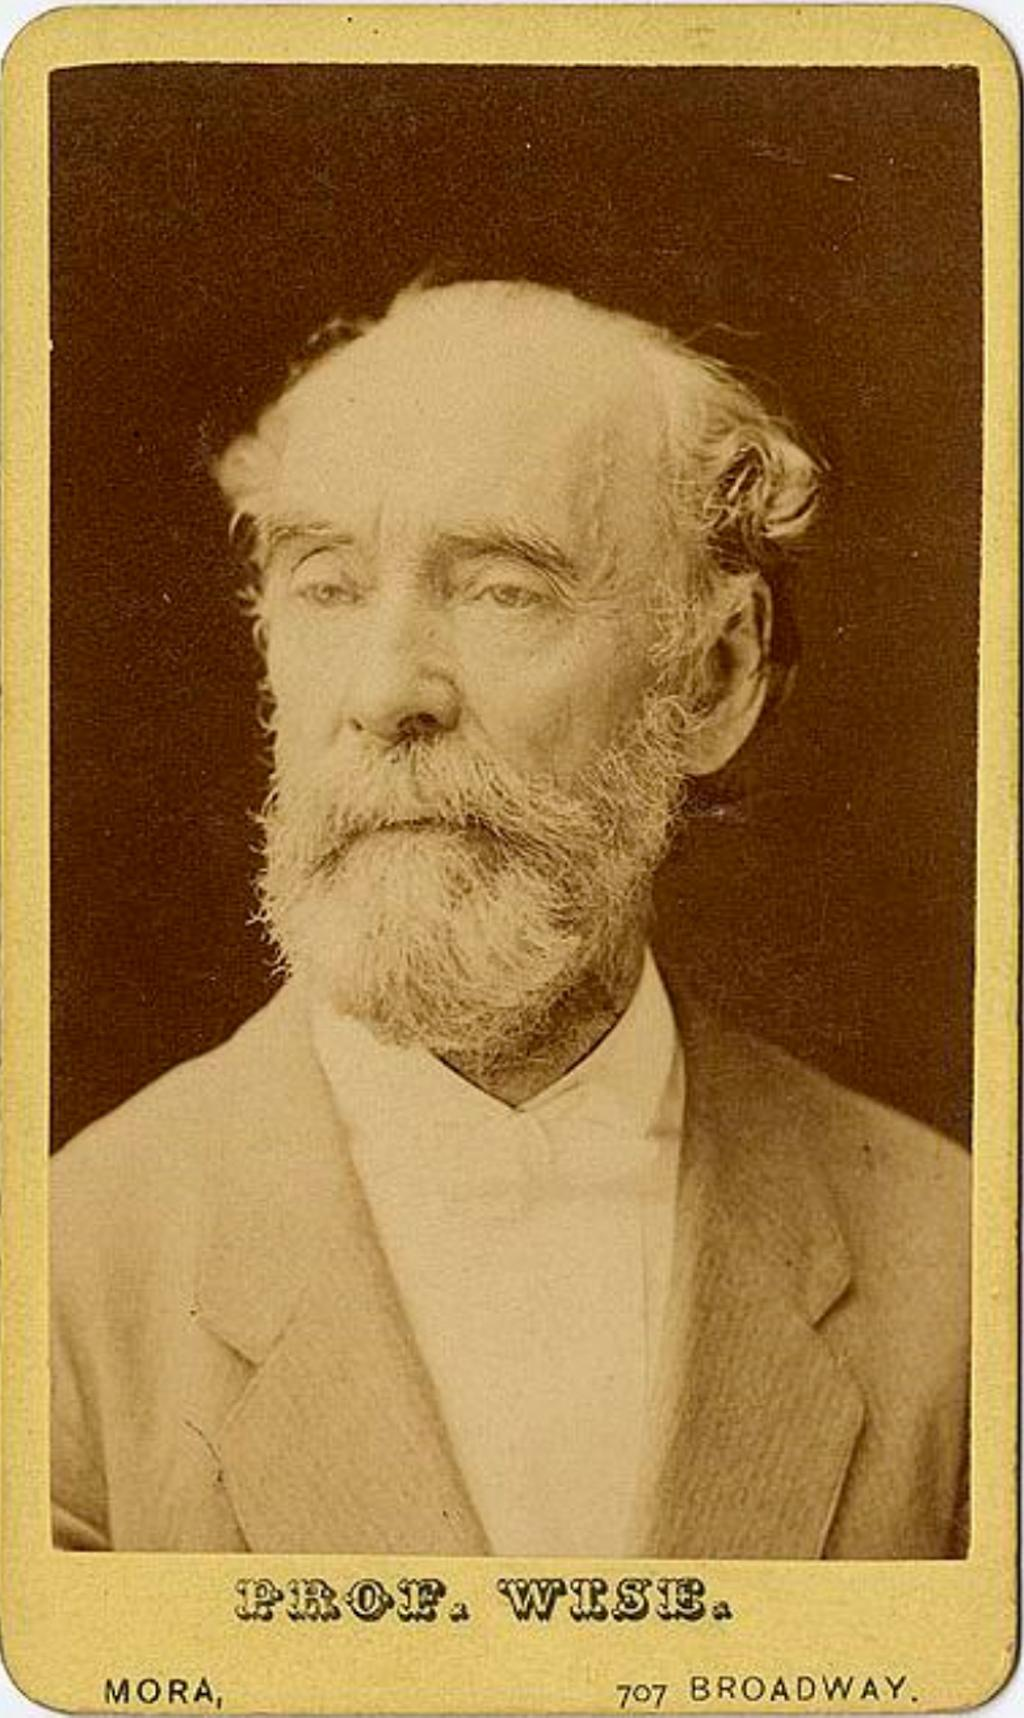face: (269, 342, 672, 1000)
